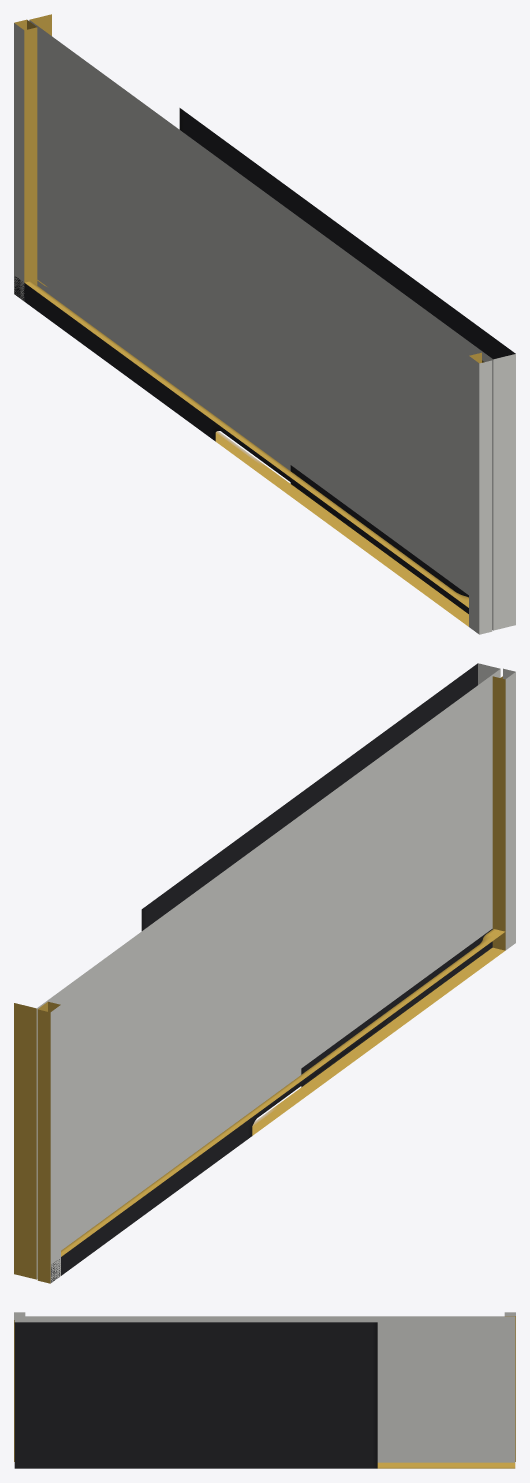
File: section-10.obj
3 views of the same model, one above another, from view 1: azimuth 30°, elevation 25°; view 2: azimuth 150°, elevation 25°; view 3: azimuth 270°, elevation 25° (orthographic). The views are drawn at different scales.
Size of the model in its own units: 0.0575 by 0.4 by 1.24.
